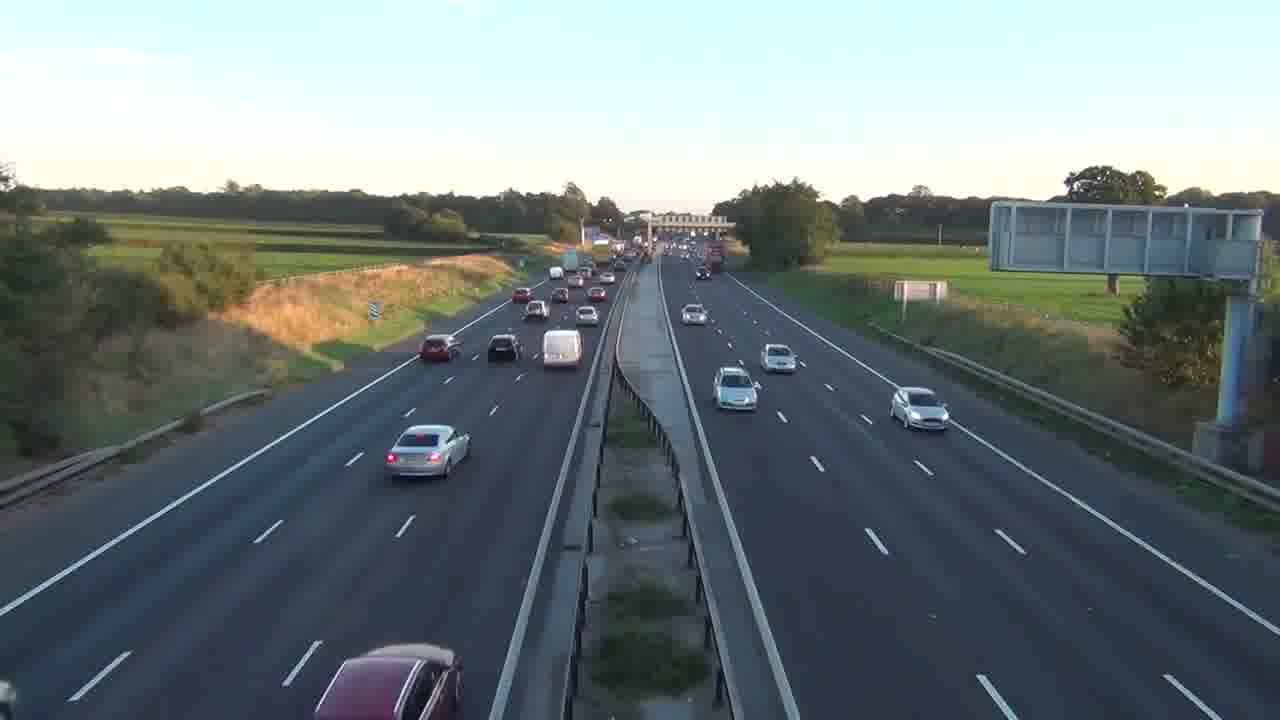car: (312, 641, 465, 718), (383, 424, 471, 481), (889, 385, 950, 432), (713, 364, 760, 412), (417, 334, 451, 363), (488, 333, 519, 363), (575, 304, 599, 327), (681, 304, 707, 325)
